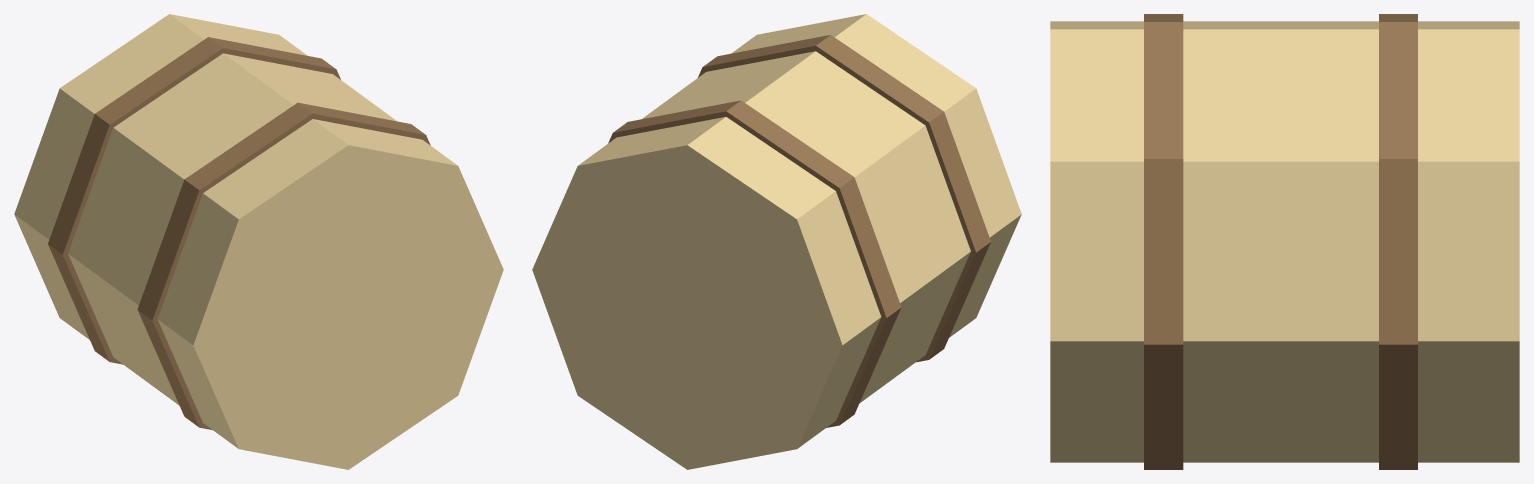
Rendered from hay-bale.glb.
The picture shows the model from 3 angles, left to right: view 1: azimuth 30°, elevation 25°; view 2: azimuth 150°, elevation 25°; view 3: azimuth 270°, elevation 25°; orthographic projection. The views are drawn at different scales.
Parts seen in each view (by area): view 1: meadow-hay-bale; view 2: meadow-hay-bale; view 3: meadow-hay-bale.
Boxes of the visible parts, bbox=[...] form: meadow-hay-bale: bbox=[14, 14, 503, 469]; meadow-hay-bale: bbox=[532, 14, 1021, 469]; meadow-hay-bale: bbox=[1050, 14, 1519, 469].
Size of the model in its own units: 0.62 by 0.62 by 0.6.
